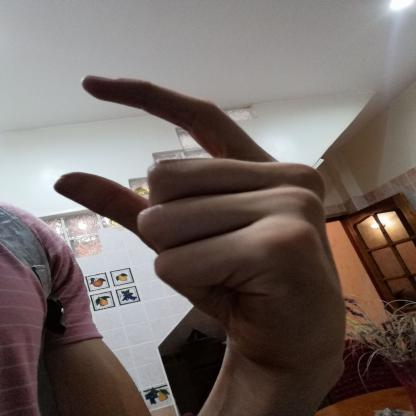DELL: (38, 65, 372, 381)
